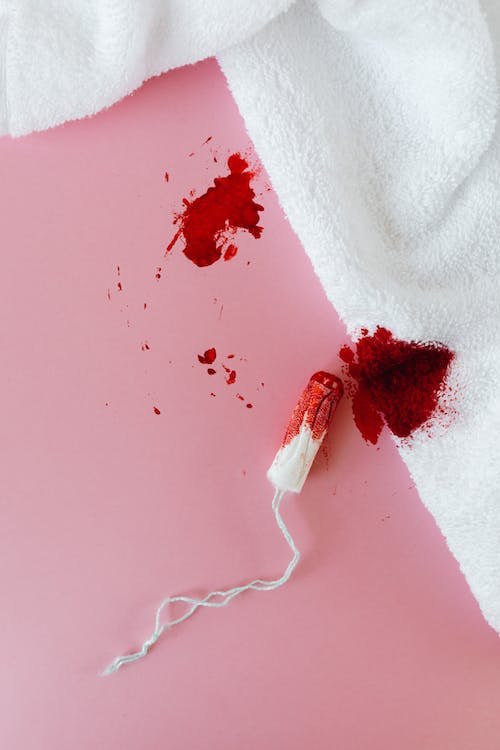blood: (104, 131, 272, 417), (334, 316, 467, 460), (276, 368, 345, 524)
